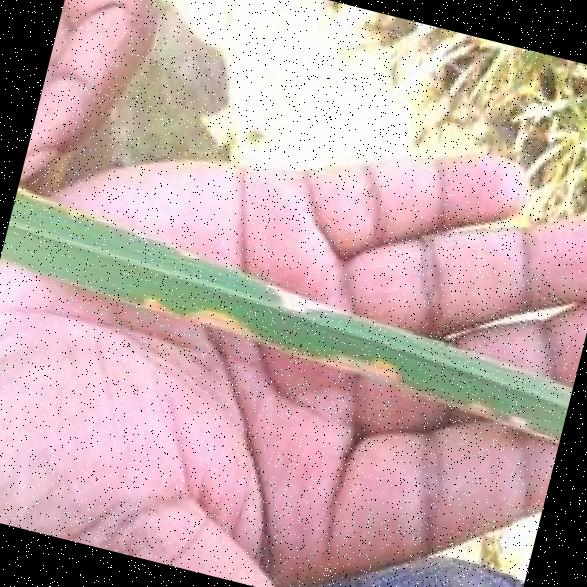Bacteria_Leaf_Blight: (109, 270, 543, 444), (10, 174, 402, 346)
